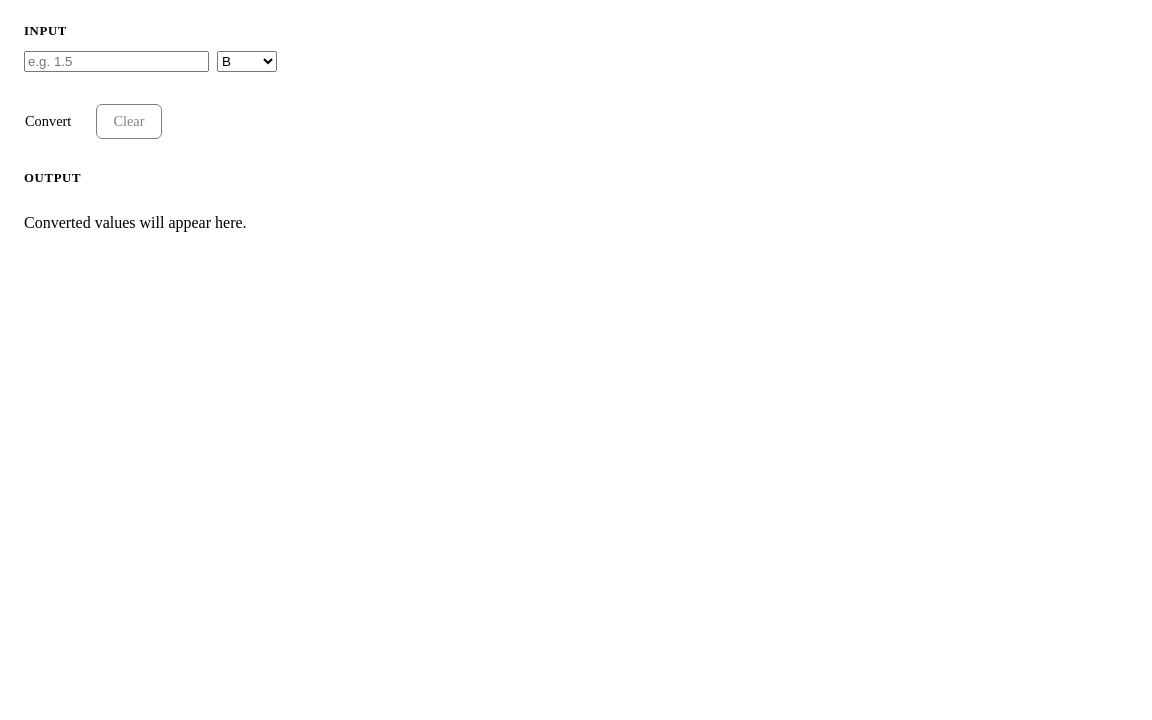
Test case: ByteSizeConverterTool › converts decimal input in a binary unit
Type "0.5" into the field named "Byte value" at (116, 62), box [24,51,209,72]
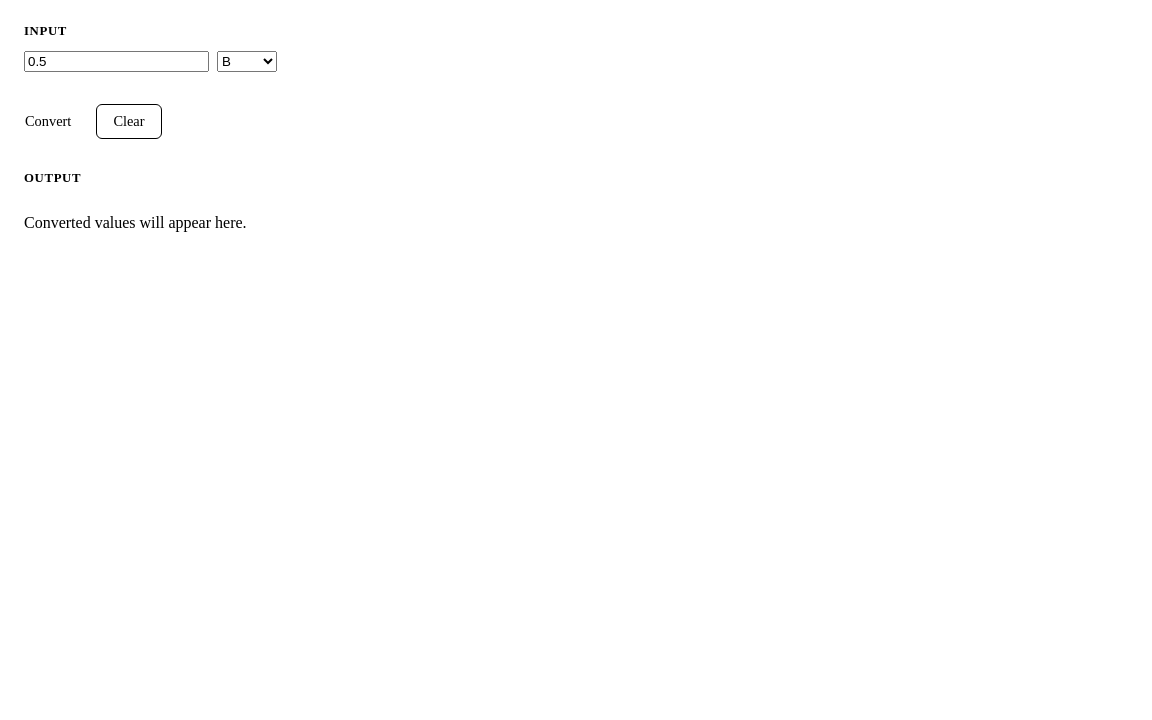
Select "KiB" in the dropdown named "Byte unit" at (247, 62), box [217,51,277,72]
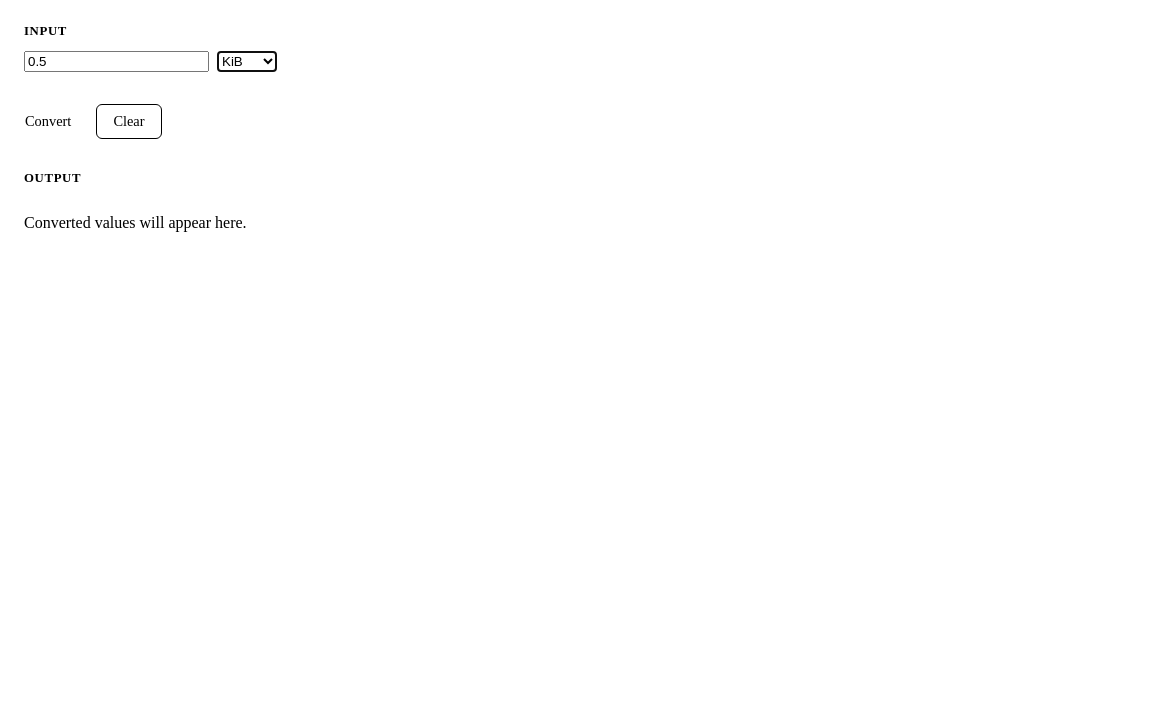
Click the button "Convert" at (48, 122), box [8,104,88,139]
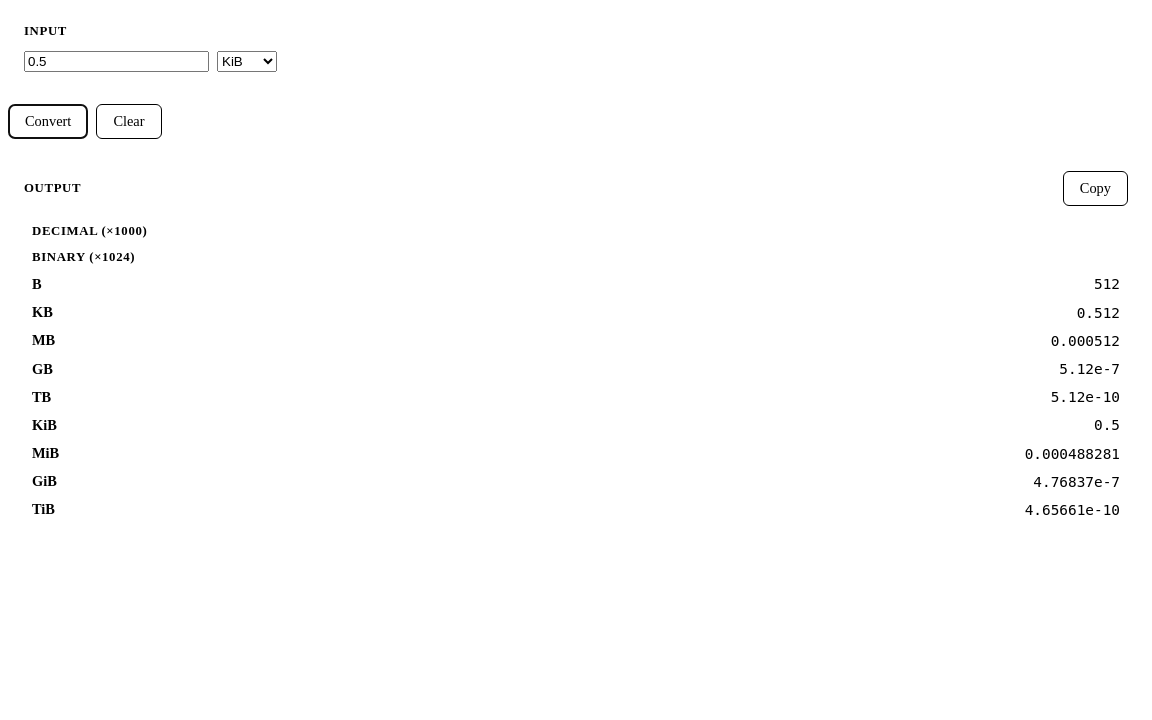
Check: the text "512" is shown, box [333,270,1128,299]
